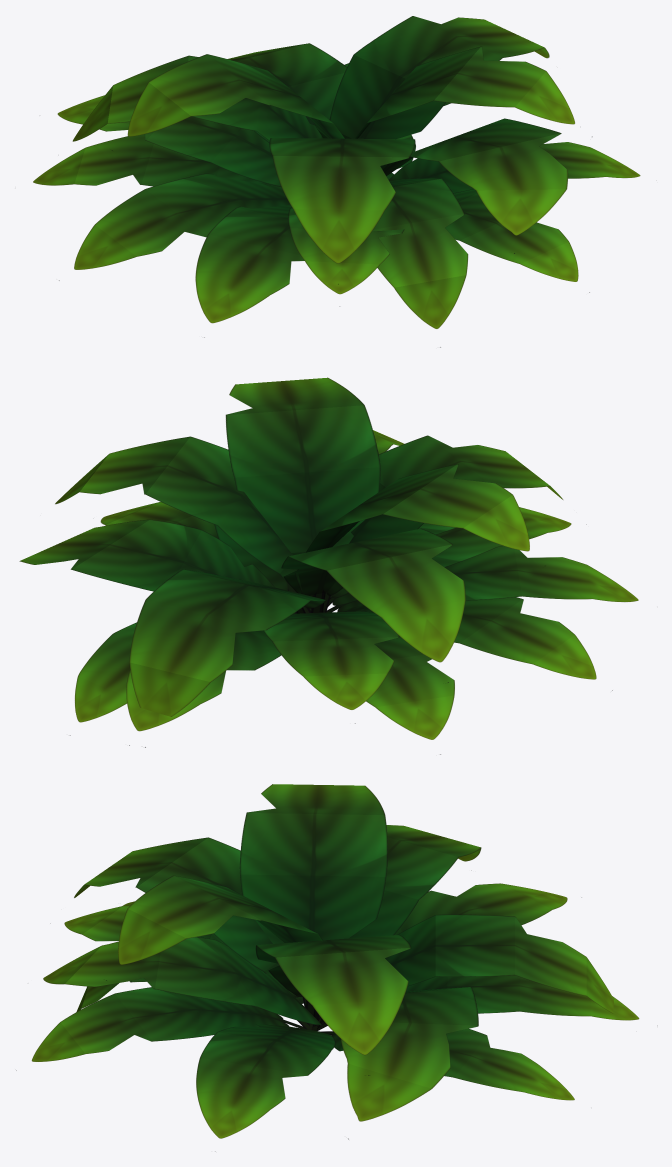
The model's file is SM_Plant_A.glb.
3 views of the same model, one above another, from view 1: azimuth 30°, elevation 25°; view 2: azimuth 150°, elevation 25°; view 3: azimuth 270°, elevation 25° (orthographic). The views are drawn at different scales.
Parts seen in each view (by area): view 1: SM_Plant_A; view 2: SM_Plant_A; view 3: SM_Plant_A.
Boxes of the visible parts, x1=… form: SM_Plant_A: x1=33, y1=16, x2=640, y2=347; SM_Plant_A: x1=19, y1=377, x2=638, y2=754; SM_Plant_A: x1=16, y1=784, x2=639, y2=1139.
Size of the model in its own units: 2.6 by 0.8703 by 2.59.
1 material, 1 textured.
